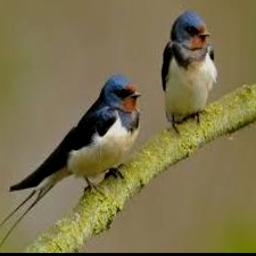Swallow: (0, 75, 142, 249), (160, 11, 217, 126)
